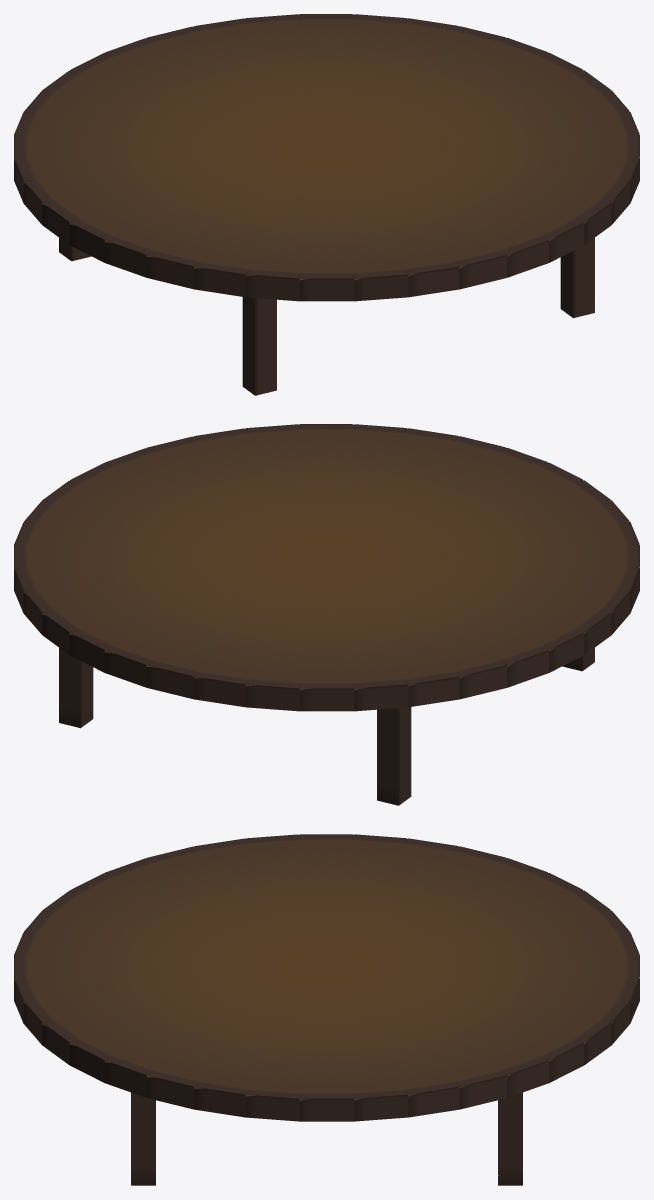
3 renders of one model, top to bottom at view 1: azimuth 30°, elevation 25°; view 2: azimuth 150°, elevation 25°; view 3: azimuth 270°, elevation 25°, orthographic.
Parts seen in each view (by area): view 1: cylinder, cuboid; view 2: cylinder, cuboid; view 3: cylinder, cuboid.
Part boxes in pixels (x1,y1,x2,y2): cylinder: (14,14,639,301); cuboid: (59,238,594,395); cylinder: (14,424,639,711); cuboid: (59,648,594,805); cylinder: (14,834,639,1121); cuboid: (131,1092,522,1185).
Bounding box in the file's own units: 9.38 × 2.25 × 9.38.
1 material, 1 textured.
